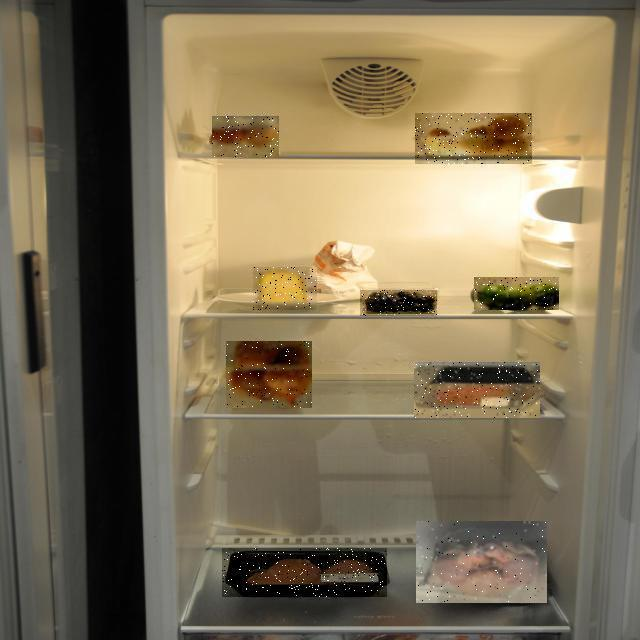Cheese: (253, 267, 317, 310)
Eggs: (212, 116, 279, 157)
Lime: (474, 277, 559, 310)
Meat: (416, 521, 547, 603), (222, 548, 387, 597), (414, 362, 540, 418)
Olives: (360, 290, 437, 316)
Onion: (226, 341, 312, 408)
Potatoes: (415, 113, 532, 164)
